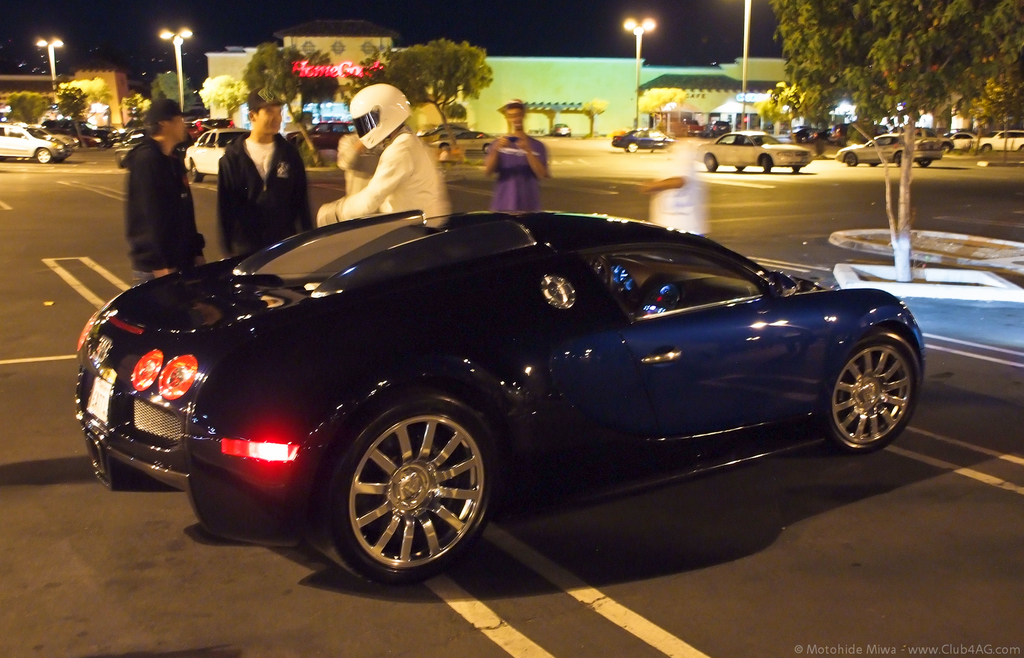Person: (313, 77, 448, 244), (213, 84, 310, 259), (116, 102, 211, 279), (480, 97, 546, 209)
